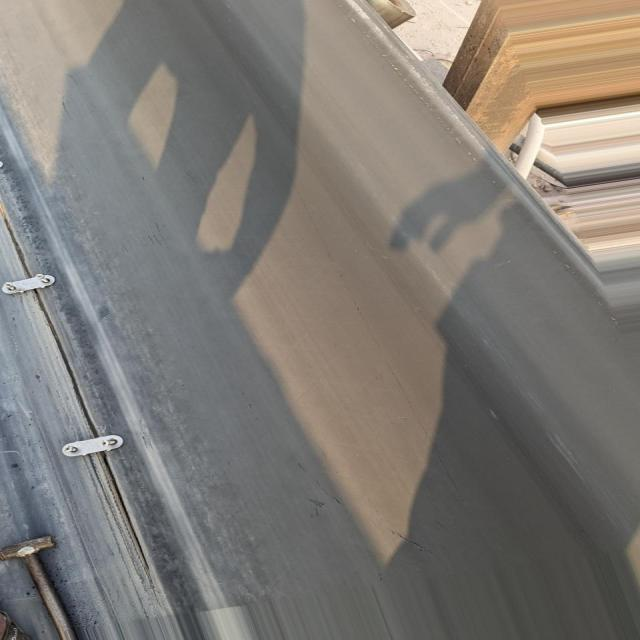Other Objects: (0, 533, 85, 640), (4, 603, 37, 640)
Roller: (371, 0, 419, 30)
patch work: (4, 190, 158, 573)
